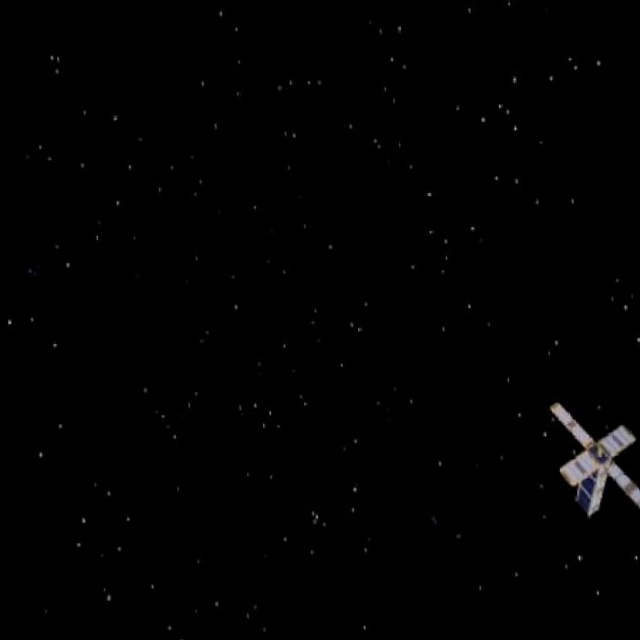medium_debris: (535, 396, 640, 544)
